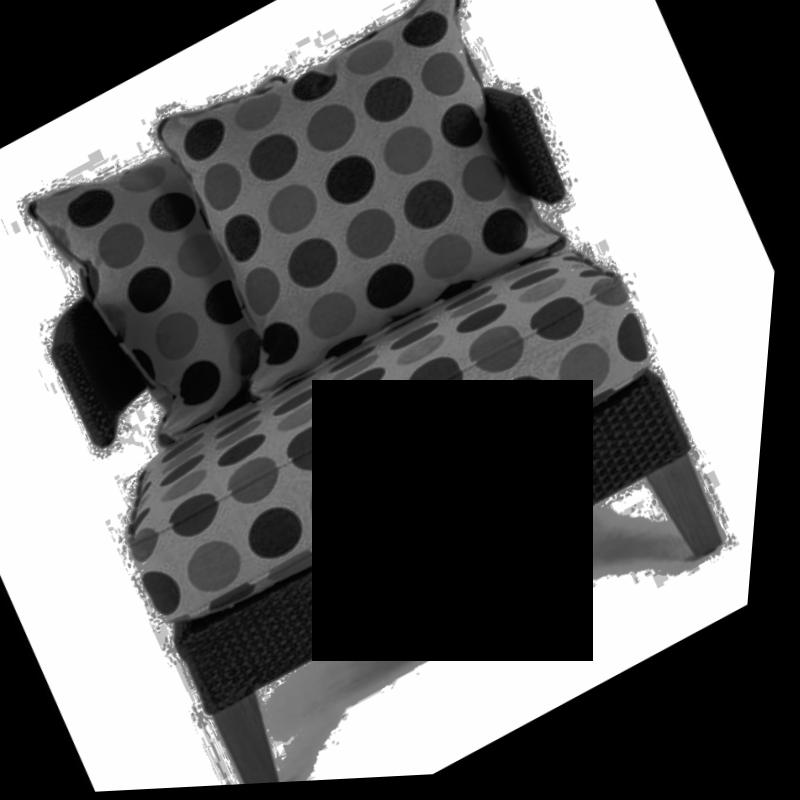pillow: (116, 0, 595, 416), (20, 120, 313, 468)
